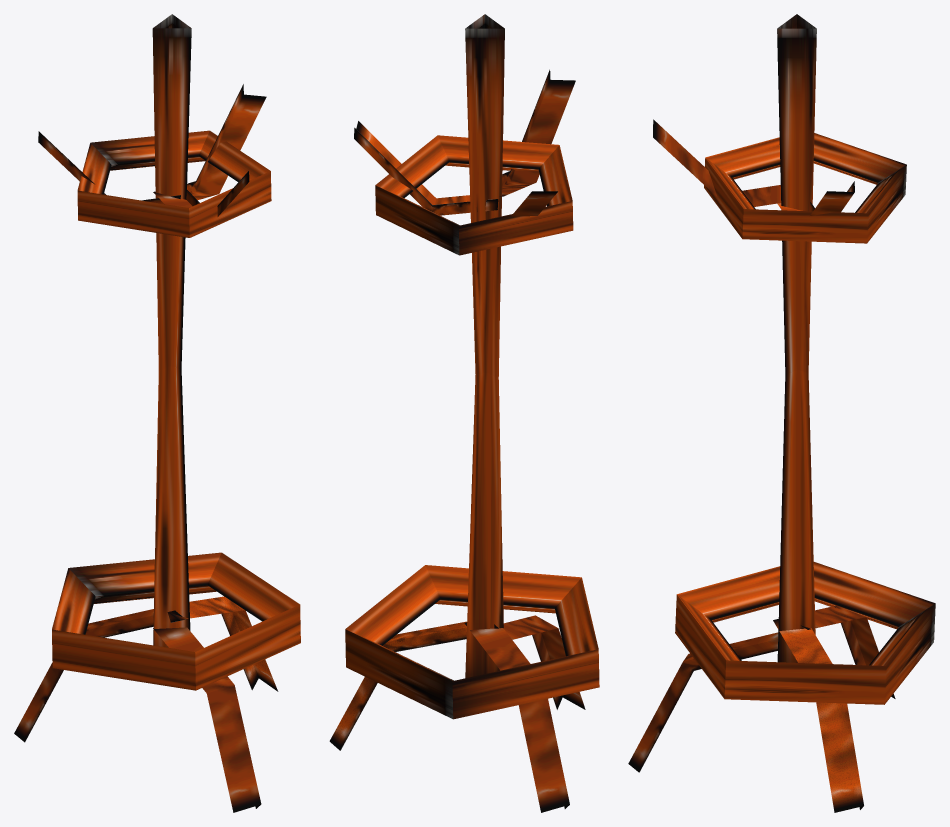
The model's file is HutständerRund [Holz]_2392.glb.
3 views of the same model, side by side, from view 1: azimuth 30°, elevation 25°; view 2: azimuth 150°, elevation 25°; view 3: azimuth 270°, elevation 25° (orthographic). The views are drawn at different scales.
Visible parts, largest first — view 1: pTorusShape1, pCylinderShape90, pTorusShape2, pCylinderShape91, pCylinderShape98, pCylinderShape93, pCylinderShape94, pCylinderShape96, pCylinderShape97; view 2: pCylinderShape90, pTorusShape1, pTorusShape2, pCylinderShape93, pCylinderShape96, pCylinderShape94, pCylinderShape98, pCylinderShape91, pCylinderShape95, pCylinderShape97; view 3: pTorusShape1, pCylinderShape90, pTorusShape2, pCylinderShape94, pCylinderShape91, pCylinderShape93, pCylinderShape96, pCylinderShape95, pCylinderShape98.
Part boxes in pixels (x1=…): pTorusShape1: x1=52, y1=552, x2=300, y2=690; pCylinderShape90: x1=152, y1=14, x2=191, y2=647; pTorusShape2: x1=77, y1=130, x2=271, y2=237; pCylinderShape91: x1=153, y1=627, x2=261, y2=812; pCylinderShape98: x1=187, y1=84, x2=266, y2=200; pCylinderShape93: x1=14, y1=609, x2=185, y2=742; pCylinderShape94: x1=168, y1=596, x2=277, y2=691; pCylinderShape96: x1=153, y1=171, x2=249, y2=216; pCylinderShape97: x1=38, y1=131, x2=180, y2=203; pCylinderShape90: x1=465, y1=14, x2=504, y2=678; pTorusShape1: x1=345, y1=565, x2=599, y2=719; pTorusShape2: x1=375, y1=135, x2=573, y2=255; pCylinderShape93: x1=464, y1=622, x2=569, y2=812; pCylinderShape96: x1=500, y1=69, x2=575, y2=196; pCylinderShape94: x1=329, y1=621, x2=498, y2=750; pCylinderShape98: x1=354, y1=121, x2=498, y2=215; pCylinderShape91: x1=503, y1=615, x2=585, y2=709; pCylinderShape95: x1=331, y1=622, x2=497, y2=749; pCylinderShape97: x1=511, y1=191, x2=557, y2=216; pTorusShape1: x1=675, y1=562, x2=935, y2=704; pCylinderShape90: x1=777, y1=14, x2=816, y2=662; pTorusShape2: x1=704, y1=133, x2=906, y2=243; pCylinderShape94: x1=773, y1=619, x2=863, y2=812; pCylinderShape91: x1=628, y1=632, x2=778, y2=772; pCylinderShape93: x1=801, y1=605, x2=895, y2=698; pCylinderShape96: x1=653, y1=119, x2=781, y2=206; pCylinderShape95: x1=785, y1=629, x2=862, y2=812; pCylinderShape98: x1=777, y1=181, x2=854, y2=215.
Bounding box in the file's own units: 0.1405 × 0.3998 × 0.1494.
11 materials, 11 textured.
